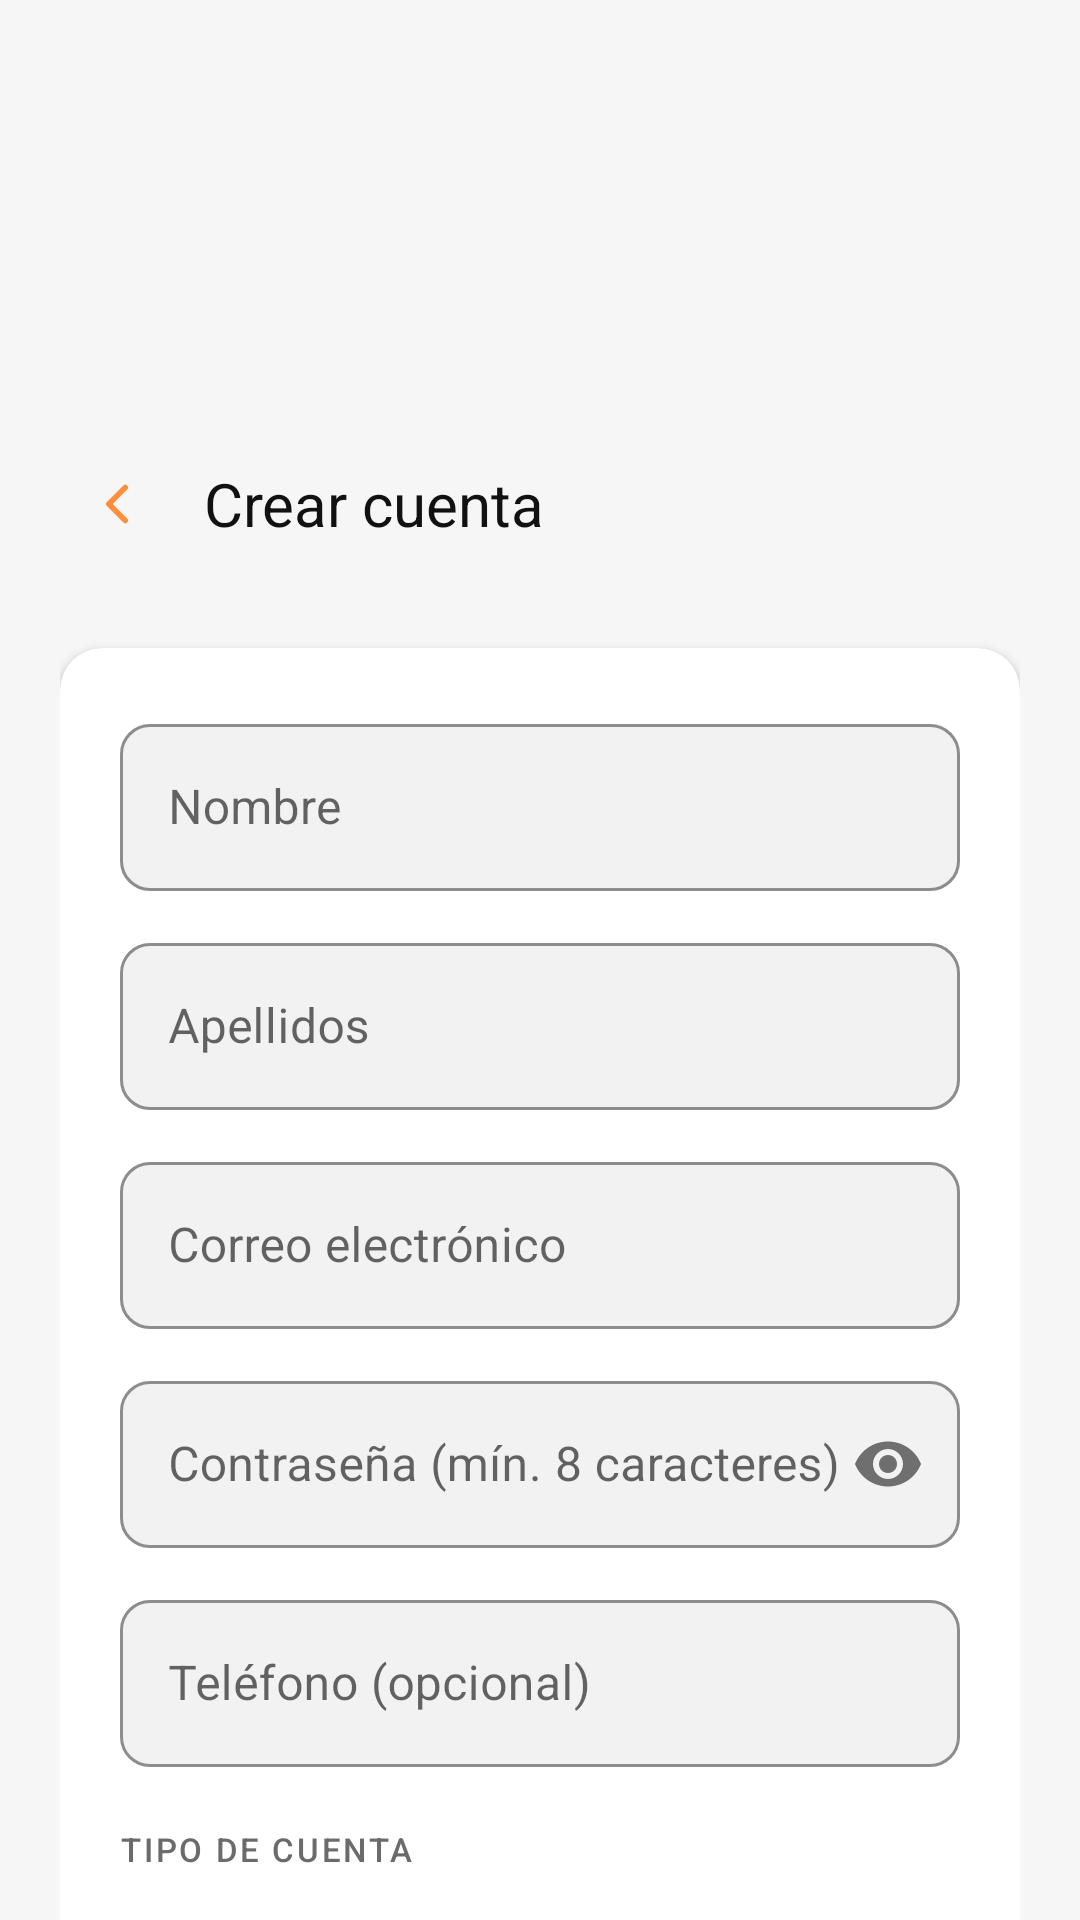

Icon click points for this 1080 × 1920 phone screenshot, format [x,y]:
arrow back: [117,504]
